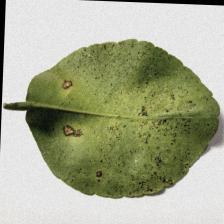canker: (97, 55, 191, 173)
